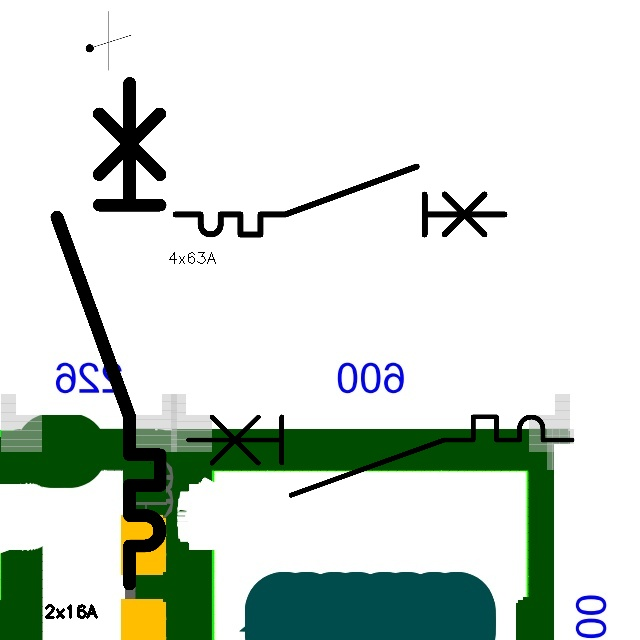interruptor_termomagnetico: (44, 70, 173, 596), (178, 407, 581, 505), (167, 158, 513, 243)
